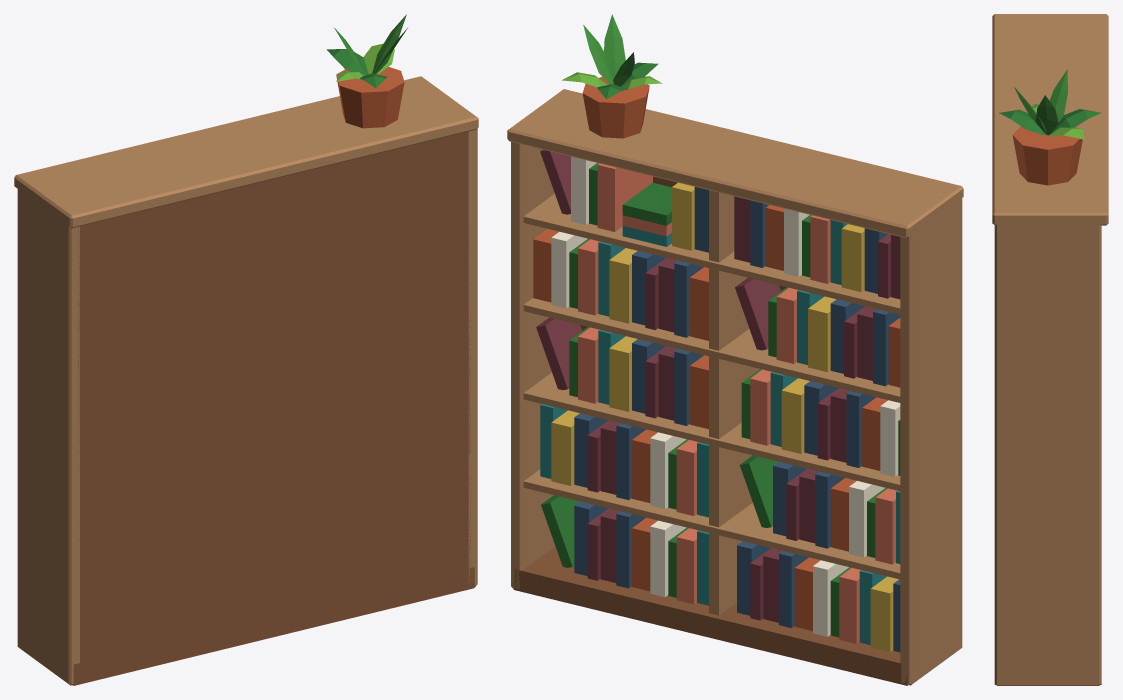
The model's file is bookshelf_v2.glb.
3 renders of one model, left to right at view 1: azimuth 30°, elevation 25°; view 2: azimuth 150°, elevation 25°; view 3: azimuth 270°, elevation 25°, orthographic. The views are drawn at different scales.
Parts seen in each view (by area): view 1: body; view 2: body; view 3: body.
Part boxes in pixels (left/top/right/bottom): body: left=14, top=14, right=478, bottom=685; body: left=507, top=14, right=963, bottom=685; body: left=992, top=14, right=1108, bottom=685.
Bounding box in the file's own units: 2 × 2.66 × 0.49.
